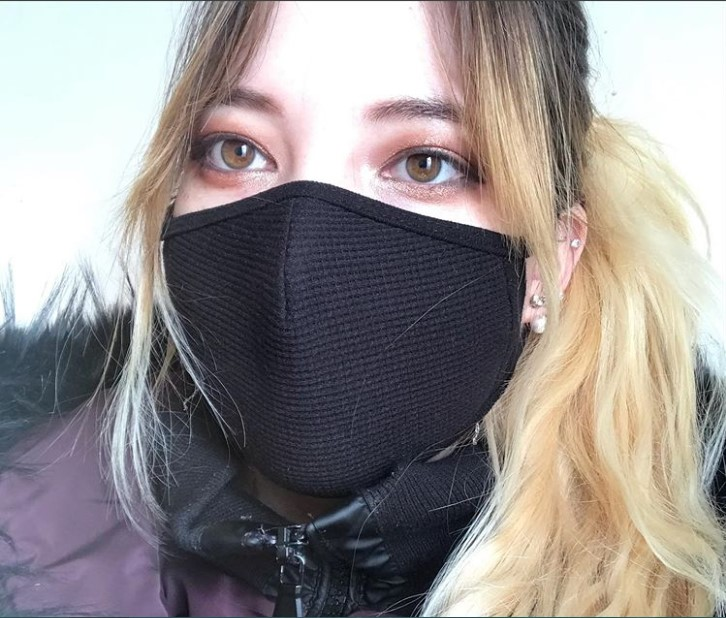face_with_mask: (157, 1, 592, 505)
